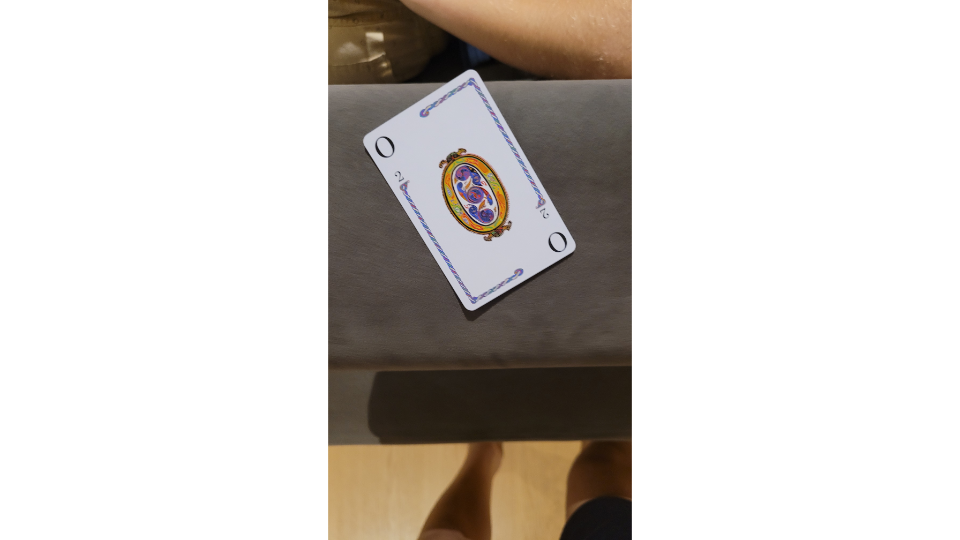O: (360, 68, 580, 315)
